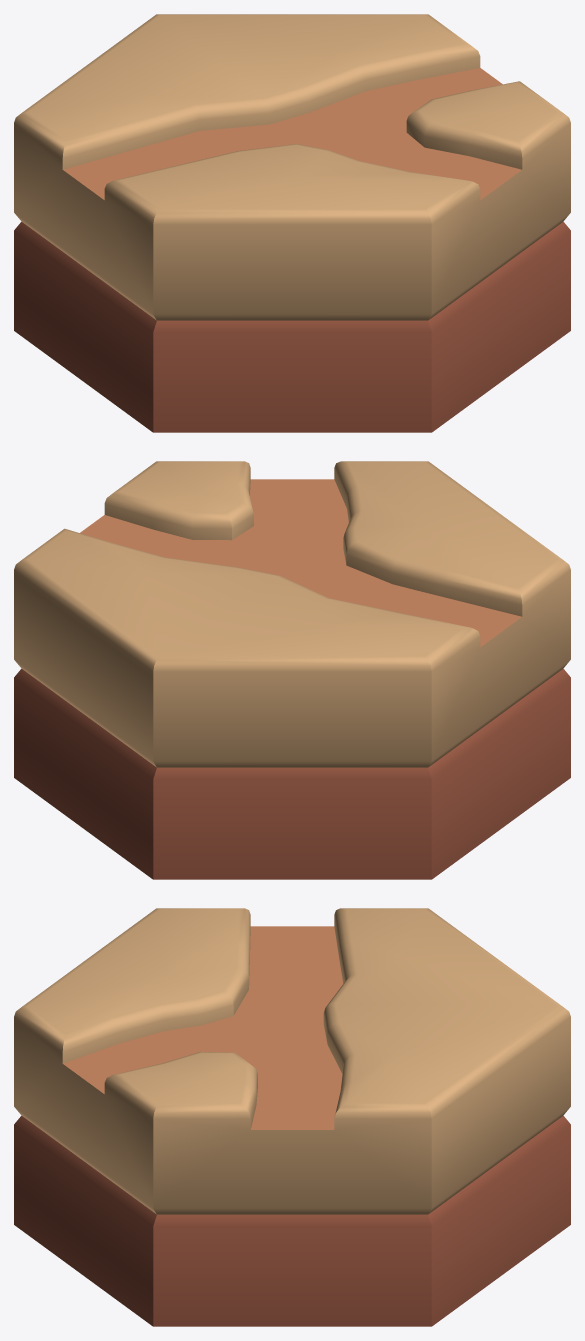
File: hex_sand_roadE_detail.glb
3 views of the same model, one above another, from view 1: azimuth 30°, elevation 25°; view 2: azimuth 150°, elevation 25°; view 3: azimuth 270°, elevation 25° (orthographic).
Parts seen in each view (by area): view 1: hex_sand_roadE_detail; view 2: hex_sand_roadE_detail; view 3: hex_sand_roadE_detail.
Part boxes in pixels (bbox=[...]): hex_sand_roadE_detail: bbox=[14, 14, 570, 432]; hex_sand_roadE_detail: bbox=[14, 461, 570, 879]; hex_sand_roadE_detail: bbox=[14, 908, 570, 1326].
Bounding box in the file's own units: 3.82 × 1.91 × 4.41.
